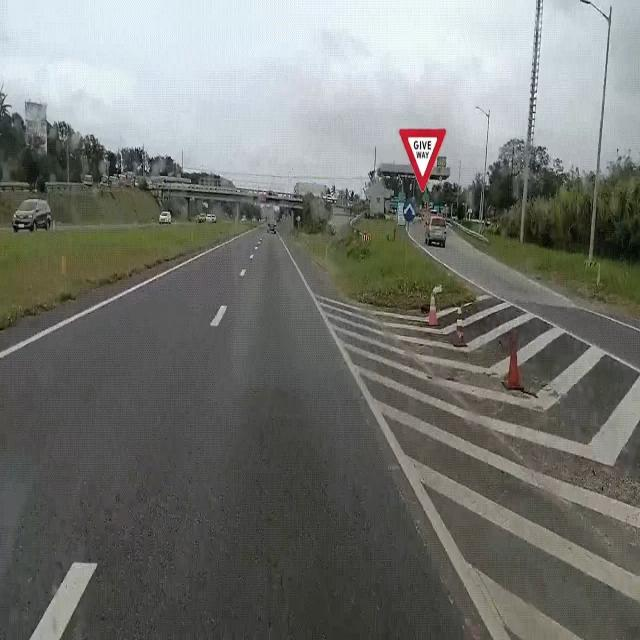Ceder-le-Passage: (396, 121, 448, 198)
